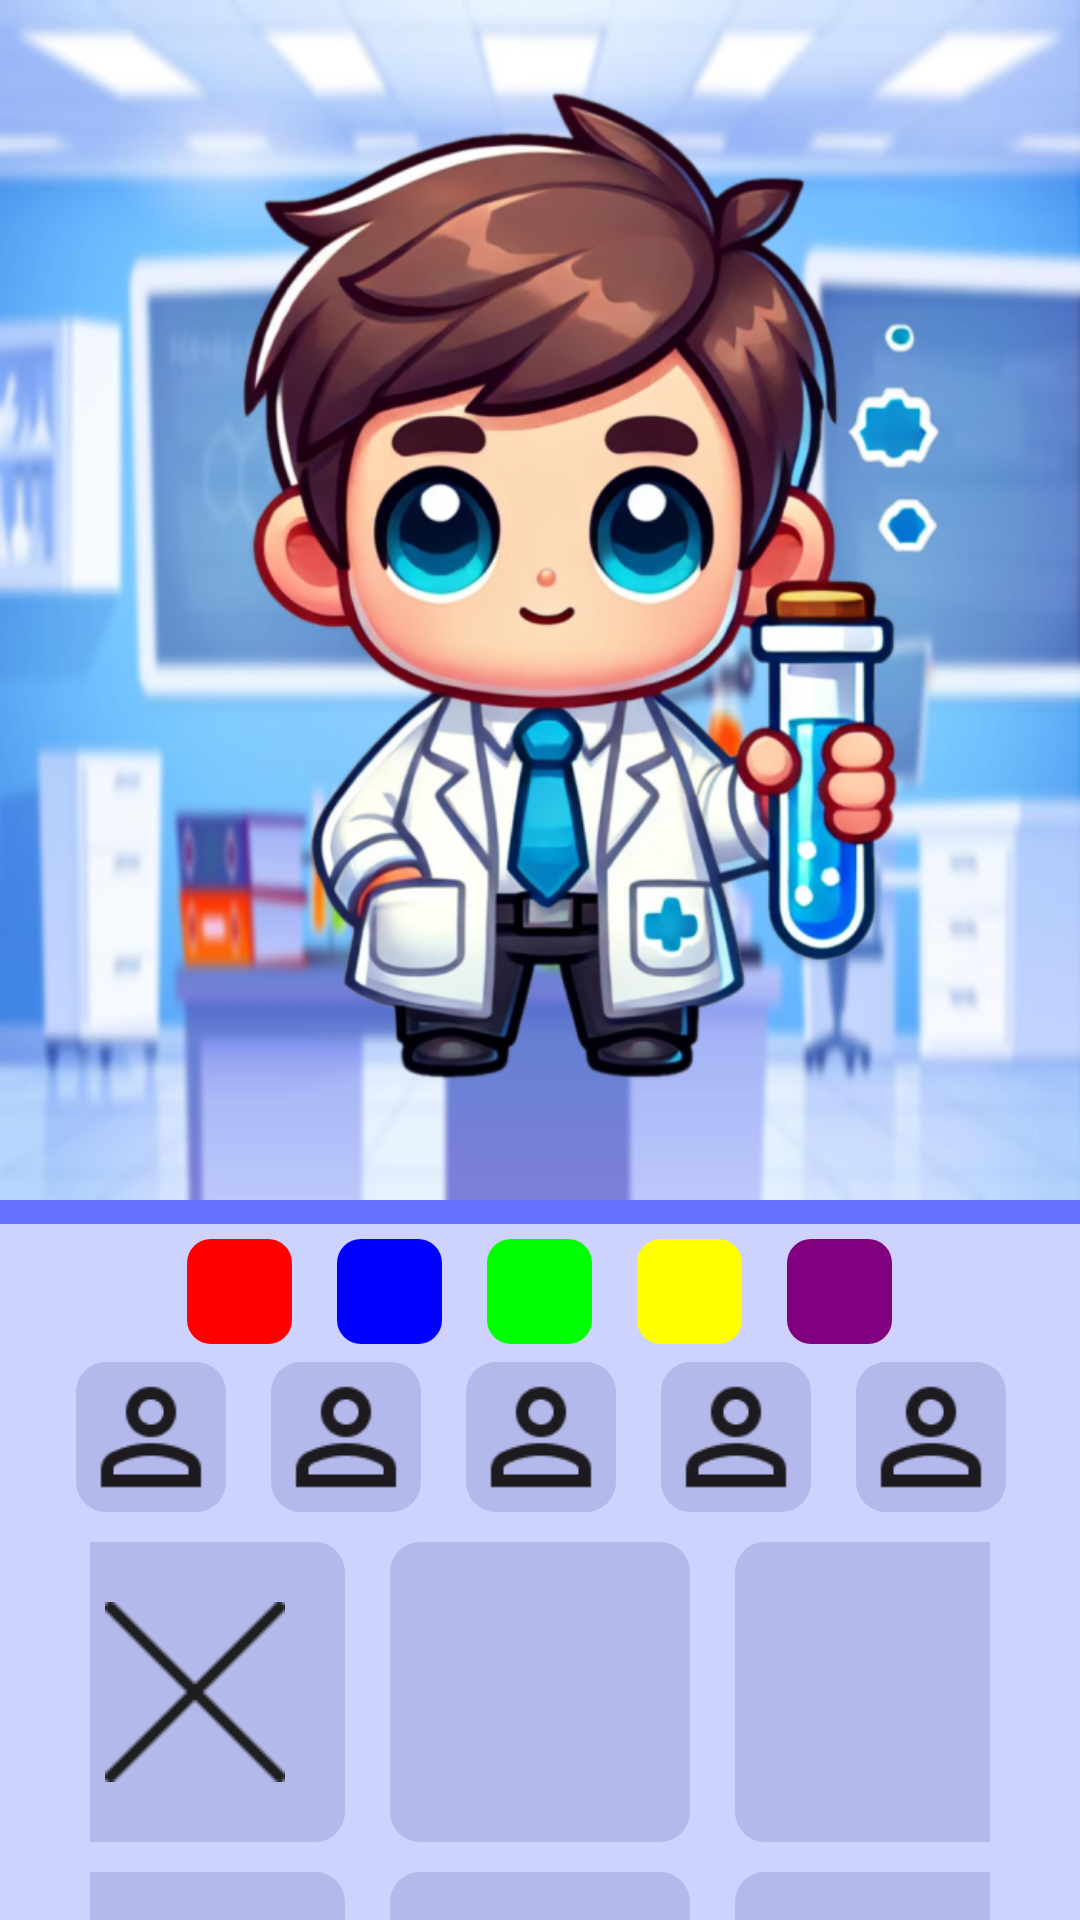

Point at icon controls on the screen. Image size 1080×1920, points as (x,y).
person: (151,1437), (346,1437), (541,1437), (736,1437), (931,1437)
